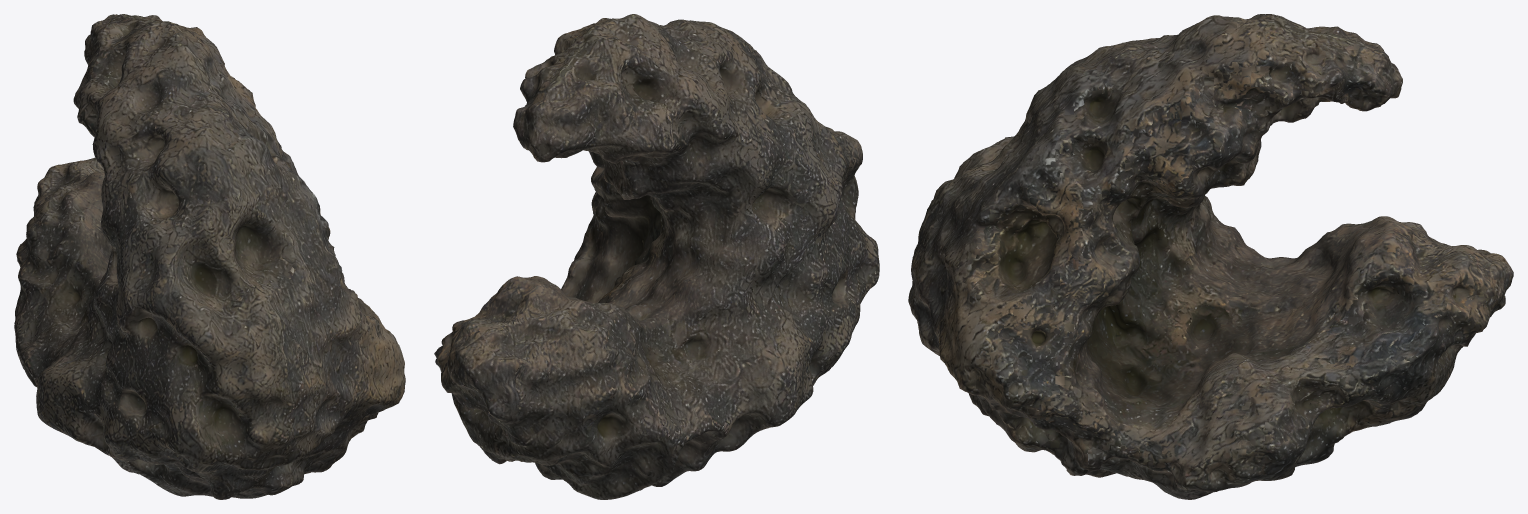
File: asteroid_rare_4.glb
The picture shows the model from 3 angles, left to right: view 1: azimuth 30°, elevation 25°; view 2: azimuth 150°, elevation 25°; view 3: azimuth 270°, elevation 25°; orthographic projection. The views are drawn at different scales.
Visible parts, largest first — view 1: model; view 2: model; view 3: model.
Boxes of the visible parts, <box> form: model: <box>14,14,405,499</box>; model: <box>434,14,879,499</box>; model: <box>908,14,1513,499</box>.
Bounding box in the file's own units: 1.09 × 1.56 × 1.9.
Materials: 1 (1 with a texture image).
